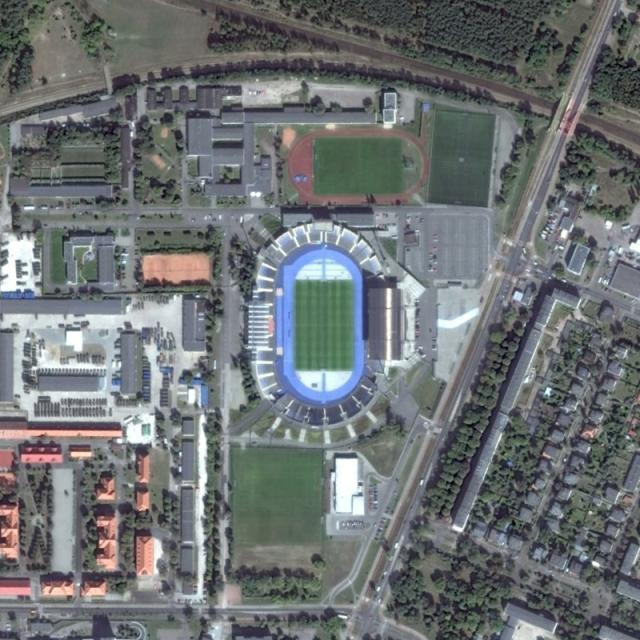vehicle: (337, 614, 348, 619), (394, 541, 399, 550), (419, 479, 424, 486), (376, 586, 380, 592)
